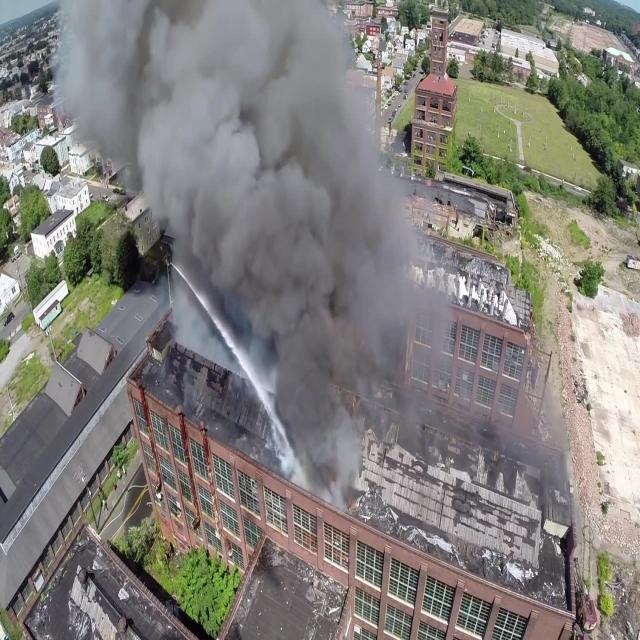Smoke: (50, 1, 470, 528)
